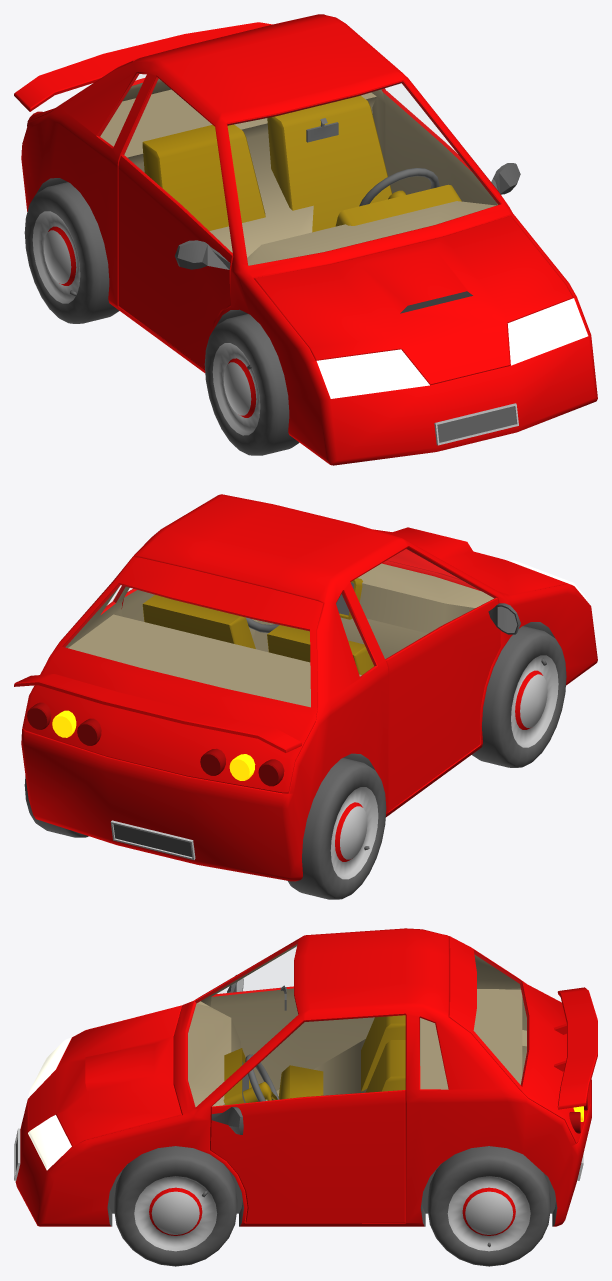
Rendered from Cartoon_SportCar_B01.glb.
3 views of the same model, one above another, from view 1: azimuth 30°, elevation 25°; view 2: azimuth 150°, elevation 25°; view 3: azimuth 270°, elevation 25° (orthographic). The views are drawn at different scales.
Visible parts, largest first — view 1: carrosserie, elements, hood, door_front_R, Tire_Back_R, Tire_Front_R, door_front_L, spoiler, Steering_wheel, Trunk; view 2: carrosserie, Trunk, door_front_R, Tire_Back_R, Tire_Front_R, elements, hood, spoiler, door_front_L; view 3: carrosserie, door_front_L, hood, Tire_Front_L, Tire_Back_L, Trunk, elements, door_front_R, spoiler, Steering_wheel.
Part boxes in pixels (bbox=[...]): carrosserie: bbox=[21, 14, 597, 465]; elements: bbox=[142, 95, 588, 445]; hood: bbox=[254, 216, 573, 385]; door_front_R: bbox=[118, 154, 233, 368]; Tire_Back_R: bbox=[24, 182, 119, 323]; Tire_Front_R: bbox=[204, 314, 299, 455]; door_front_L: bbox=[383, 90, 520, 205]; spoiler: bbox=[14, 22, 272, 111]; Steering_wheel: bbox=[359, 168, 439, 206]; Trunk: bbox=[22, 24, 271, 143]; carrosserie: bbox=[21, 494, 597, 881]; Trunk: bbox=[22, 557, 323, 793]; door_front_R: bbox=[385, 597, 520, 811]; Tire_Back_R: bbox=[287, 758, 386, 899]; Tire_Front_R: bbox=[472, 626, 566, 767]; elements: bbox=[110, 528, 587, 859]; hood: bbox=[373, 527, 572, 595]; spoiler: bbox=[14, 674, 301, 752]; door_front_L: bbox=[121, 588, 154, 621]; carrosserie: bbox=[15, 928, 591, 1226]; door_front_L: bbox=[210, 1090, 405, 1222]; hood: bbox=[28, 1006, 181, 1146]; Tire_Front_L: bbox=[114, 1146, 237, 1266]; Tire_Back_L: bbox=[427, 1146, 550, 1266]; Trunk: bbox=[448, 936, 590, 1143]; elements: bbox=[14, 985, 583, 1180]; door_front_R: bbox=[210, 975, 374, 1090]; spoiler: bbox=[554, 987, 597, 1109]; Steering_wheel: bbox=[243, 1054, 279, 1102].
Bounding box in the file's own units: 190 × 146 × 322.
